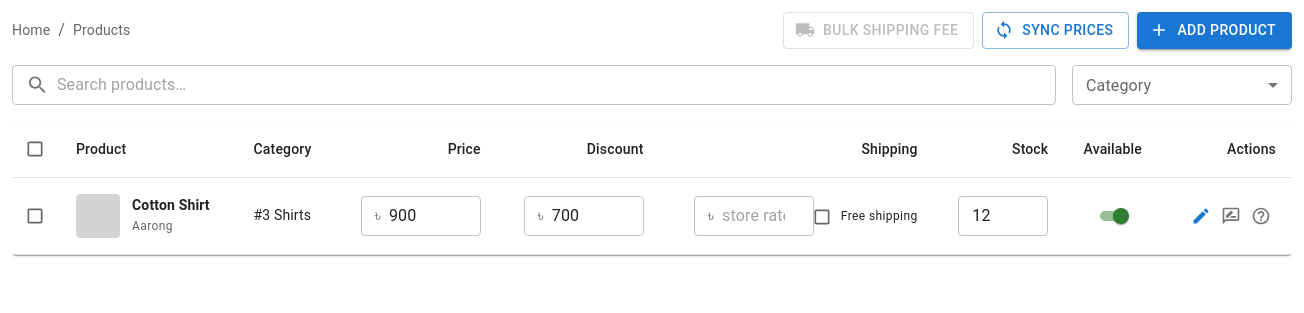
it: a rejected shipping fee edit surfaces the field error
Expected: the text "Cotton Shirt" is shown, [132,194,210,214]
In the number field with placeholder "store rate": (768, 216) [722,196,814,236], type "-10"
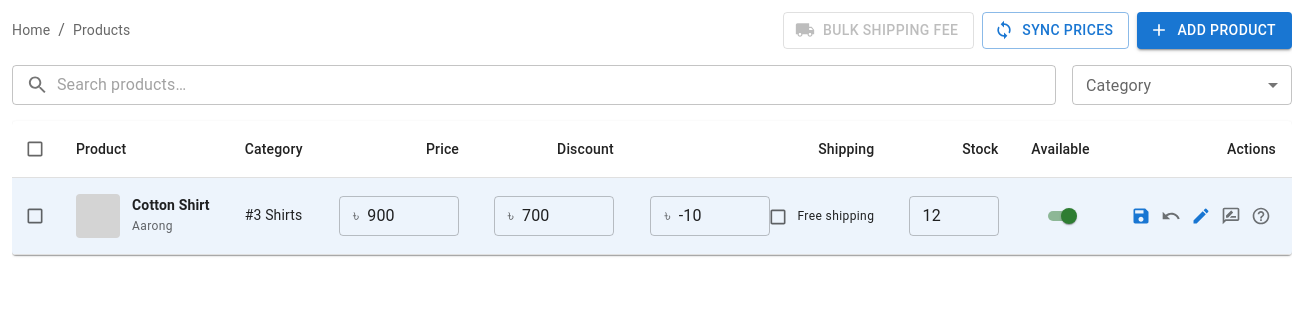
Click the button named "Save Cotton Shirt": (1141, 216) [1126,200,1156,230]
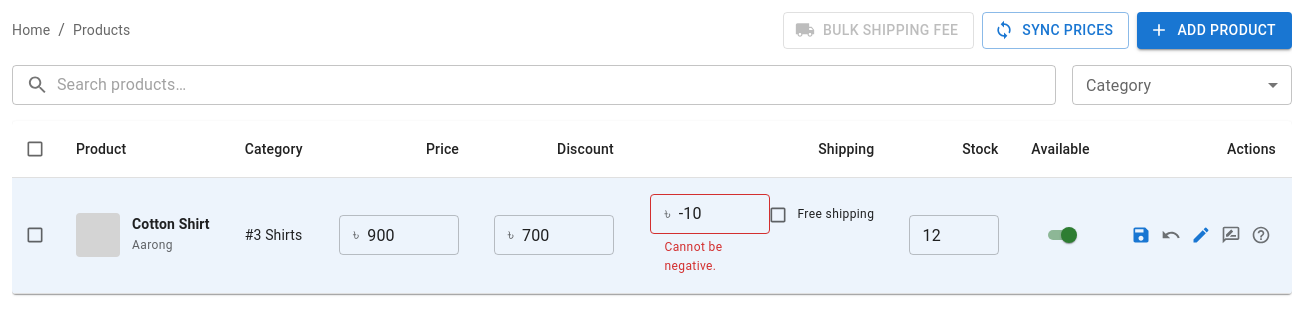
Expected: the text "Cannot be negative." is shown, [664,240,722,273]
